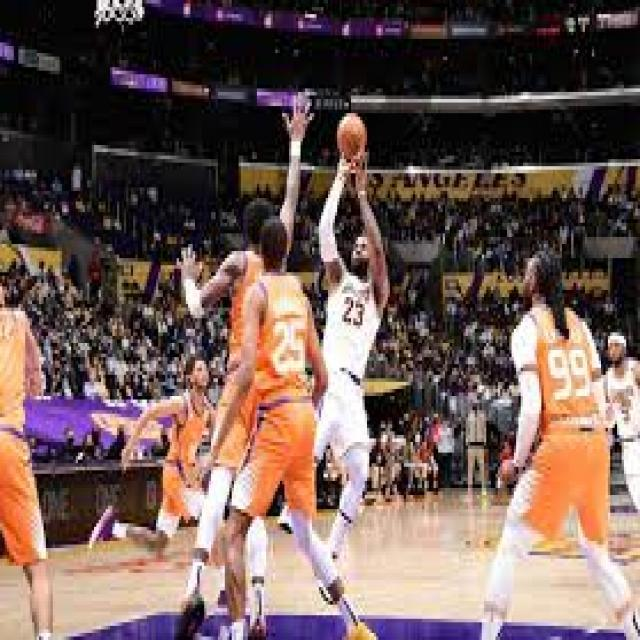rim: (337, 110, 367, 160)
